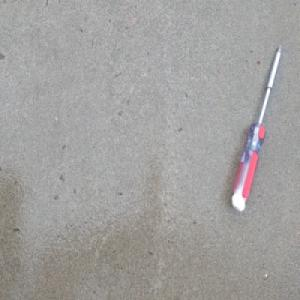Screwdriver: (230, 41, 284, 214)
